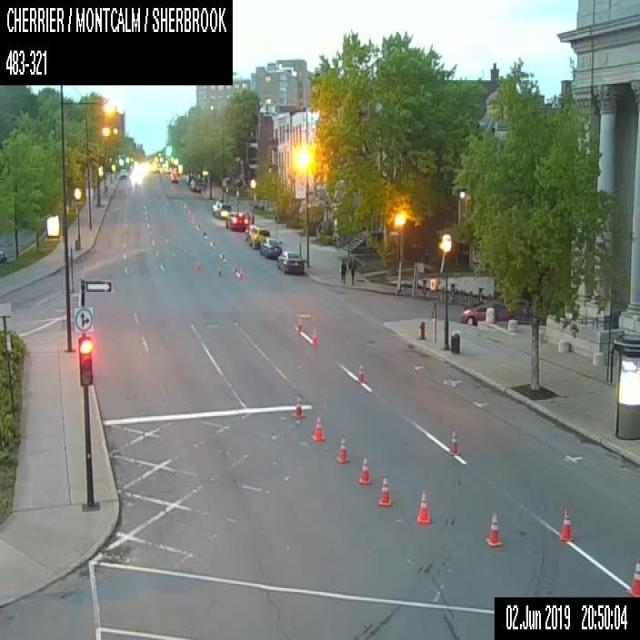construction: (484, 510, 501, 546), (376, 471, 392, 505), (415, 489, 430, 524), (557, 508, 571, 540), (629, 556, 639, 596), (357, 454, 370, 482), (312, 414, 324, 442), (335, 436, 348, 461), (292, 393, 304, 418), (309, 328, 318, 349), (356, 361, 364, 383), (449, 428, 456, 453), (296, 312, 304, 332), (239, 263, 246, 277), (231, 262, 236, 274)
pedestrian: (349, 255, 356, 284), (340, 256, 345, 284)
vehicle: (459, 298, 506, 322), (276, 250, 306, 275), (247, 225, 269, 248), (260, 236, 282, 257), (224, 211, 248, 230), (210, 200, 230, 217), (189, 178, 202, 192), (245, 223, 256, 239), (119, 168, 128, 179), (0, 248, 6, 262), (169, 173, 178, 182)
